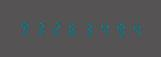four: (129, 20, 144, 38), (97, 20, 112, 37)
nine: (17, 18, 32, 36), (113, 20, 128, 37)
six: (65, 19, 80, 36)
three: (33, 19, 48, 36), (81, 20, 96, 37)
two: (49, 19, 64, 36)
